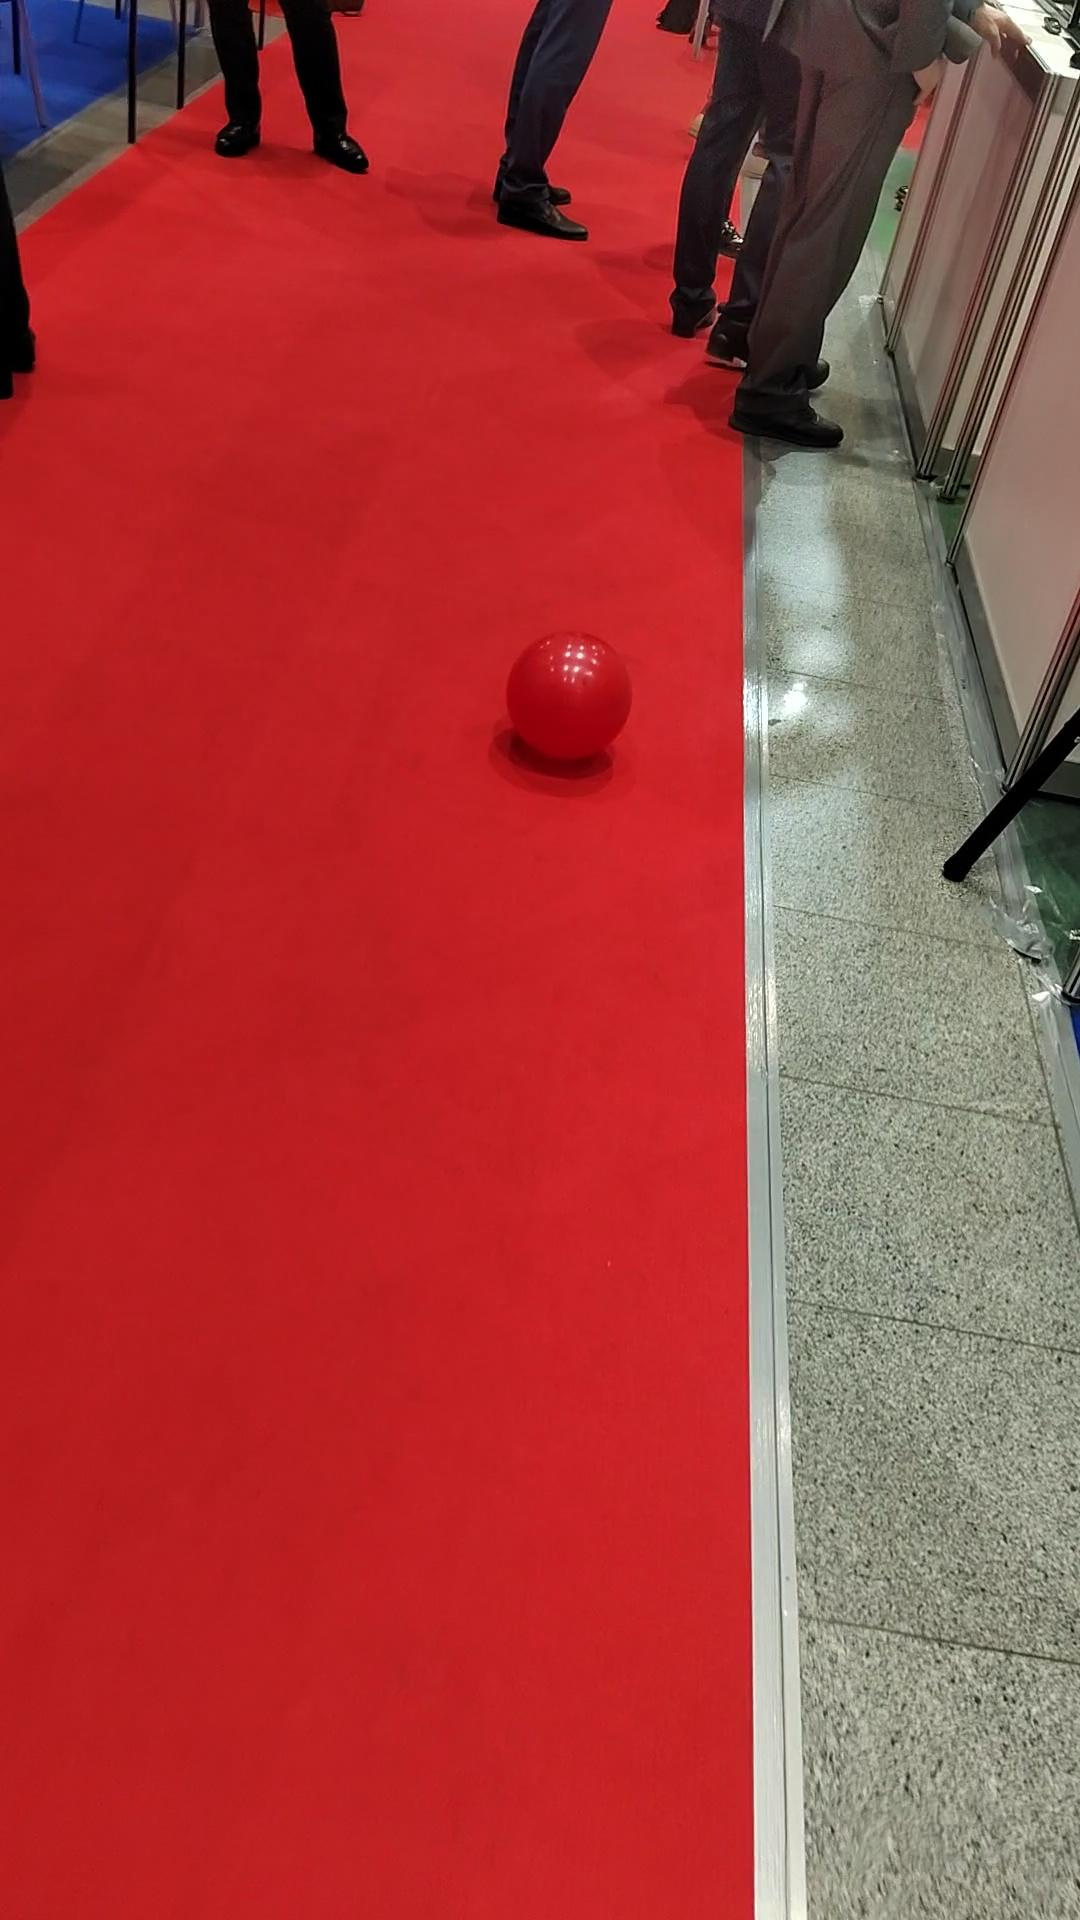red: (505, 632, 632, 764)
